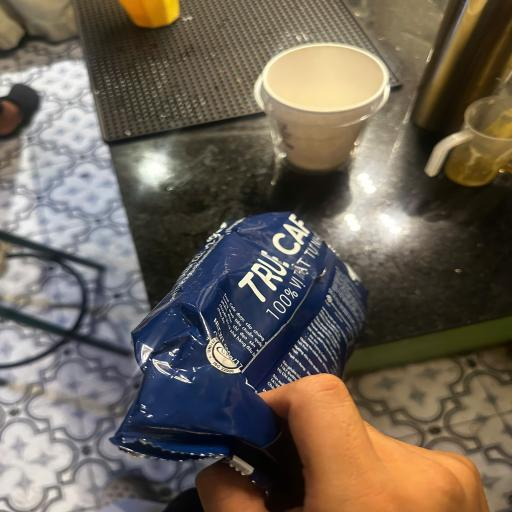cafe_hat: (118, 214, 376, 510)
